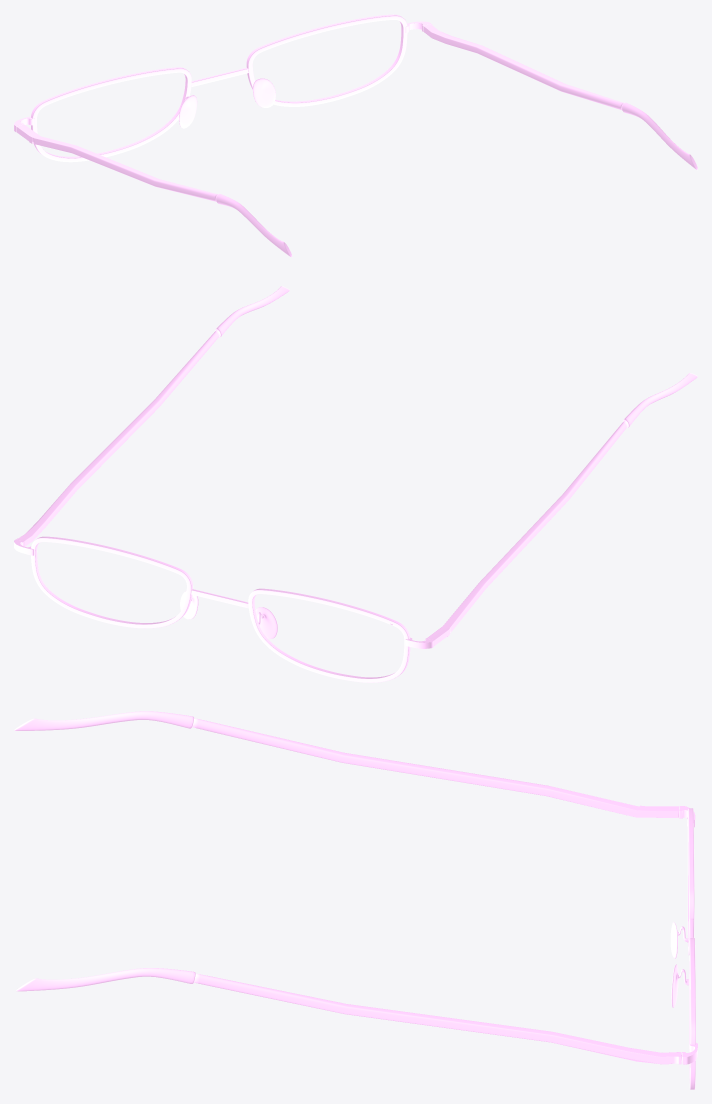
3 renders of one model, top to bottom at view 1: azimuth 30°, elevation 25°; view 2: azimuth 150°, elevation 25°; view 3: azimuth 270°, elevation 25°, orthographic. The views are drawn at different scales.
Visible parts, largest first — view 1: _Metal_Frame_Reading_Glasses_V2_Max2011_iterations_2:_Metal_; view 2: _Metal_Frame_Reading_Glasses_V2_Max2011_iterations_2:_Metal_; view 3: _Metal_Frame_Reading_Glasses_V2_Max2011_iterations_2:_Metal_.
Boxes of the visible parts, x1=… form: _Metal_Frame_Reading_Glasses_V2_Max2011_iterations_2:_Metal_: x1=14, y1=14, x2=697, y2=257; _Metal_Frame_Reading_Glasses_V2_Max2011_iterations_2:_Metal_: x1=14, y1=286, x2=697, y2=682; _Metal_Frame_Reading_Glasses_V2_Max2011_iterations_2:_Metal_: x1=14, y1=711, x2=697, y2=1089.
Bounding box in the file's own units: 15.83 × 4.94 × 18.23.
